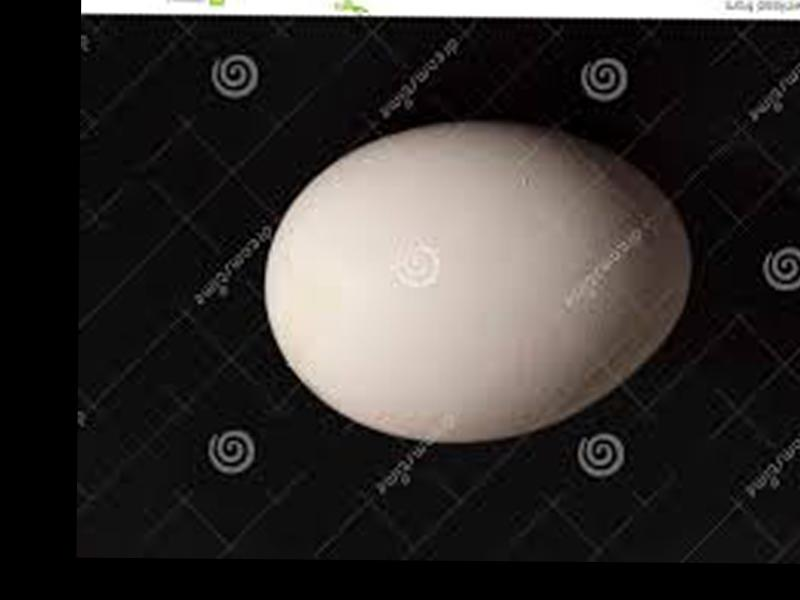Eggs: (260, 120, 693, 444)
